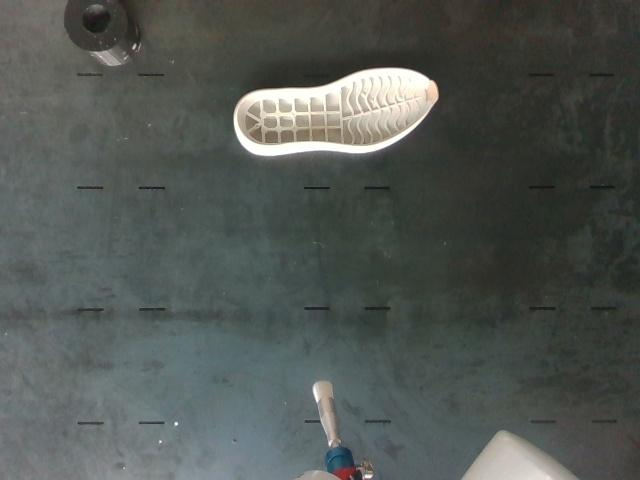shoes: (237, 70, 437, 146)
